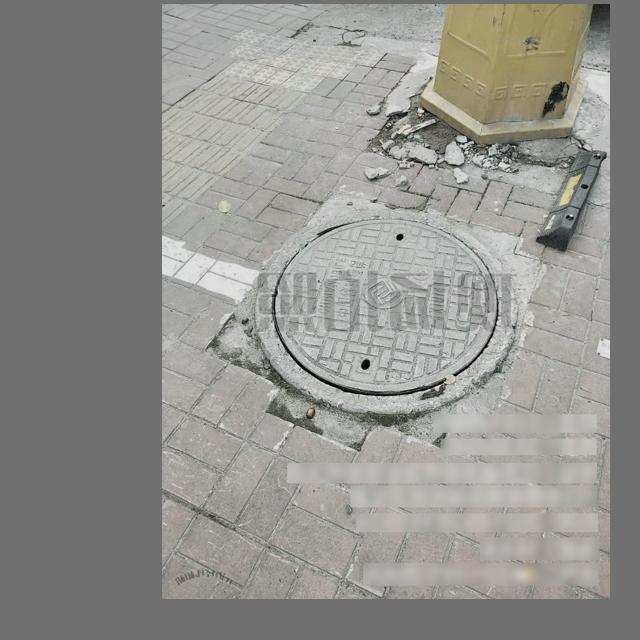good: (254, 209, 517, 414)
